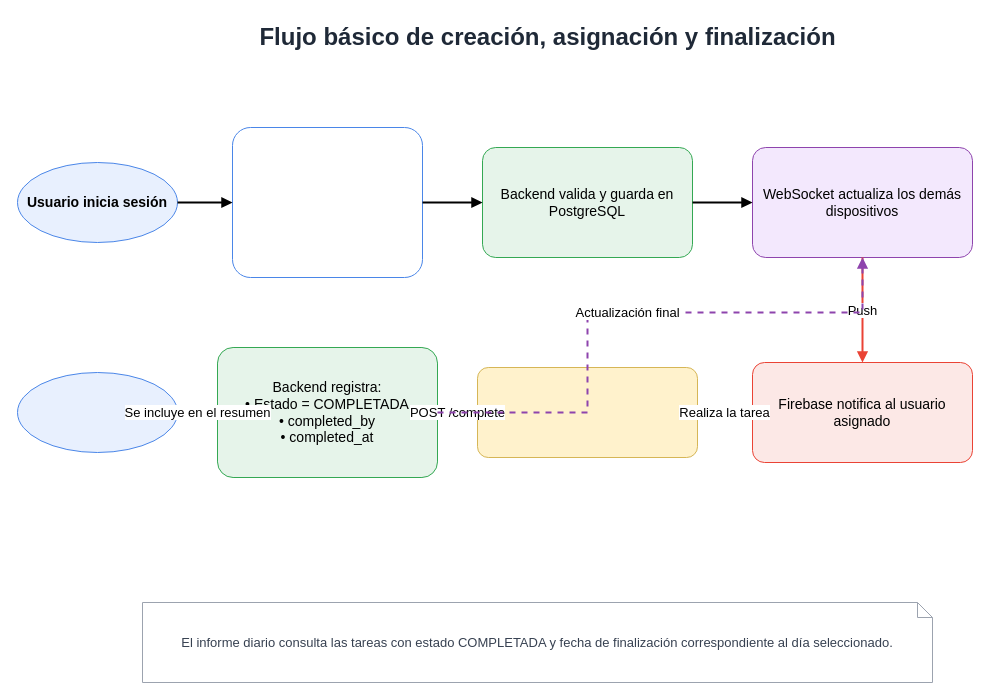
Some shapes in this 990 by 700 pixel diagram are drawn without their labels. Here are the shapes that lost their labels. From the top down, the centre of each, then its label:
At pixel 327 202: "Crear tarea Título Descripción Prioridad Usuario asignado".
At pixel 97 412: "Informe diario PDF".
At pixel 587 412: "Usuario pulsa Completar".
